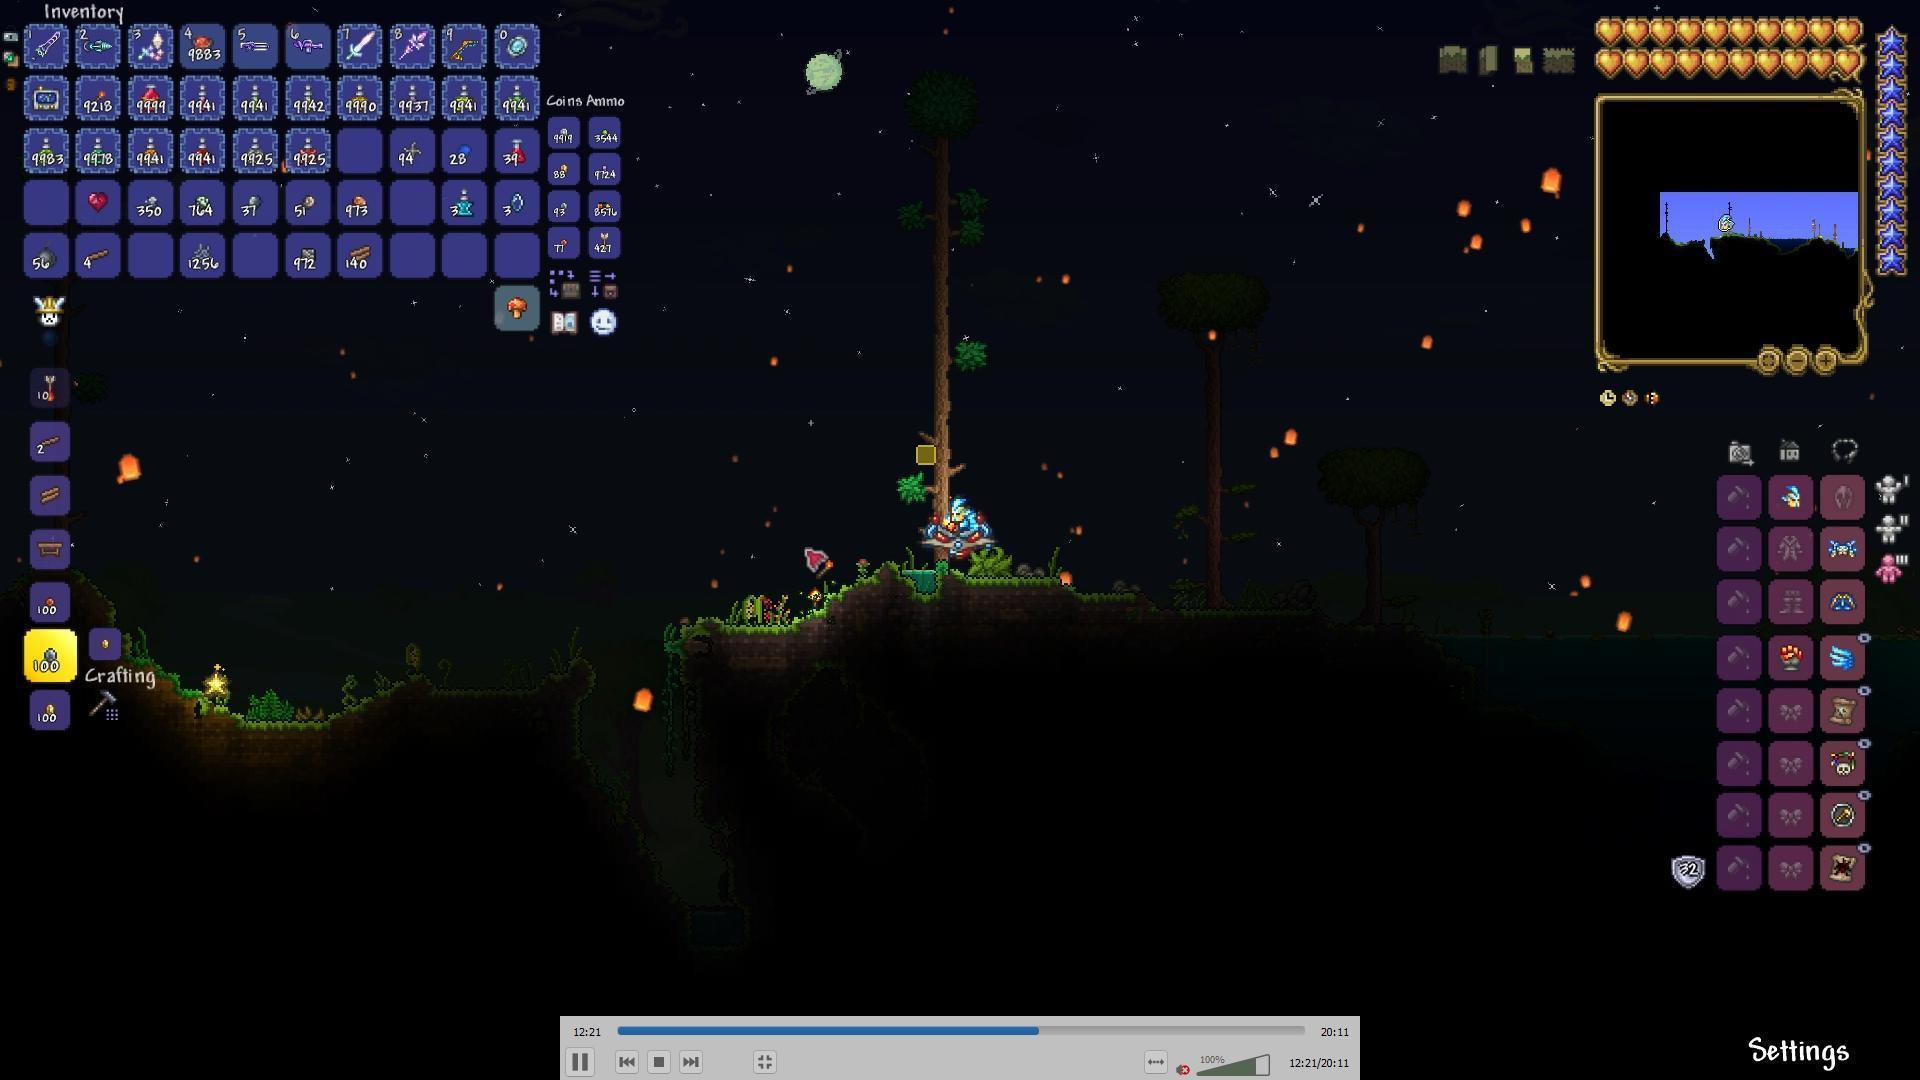mirror: (504, 33, 530, 62)
star: (203, 670, 228, 698)
